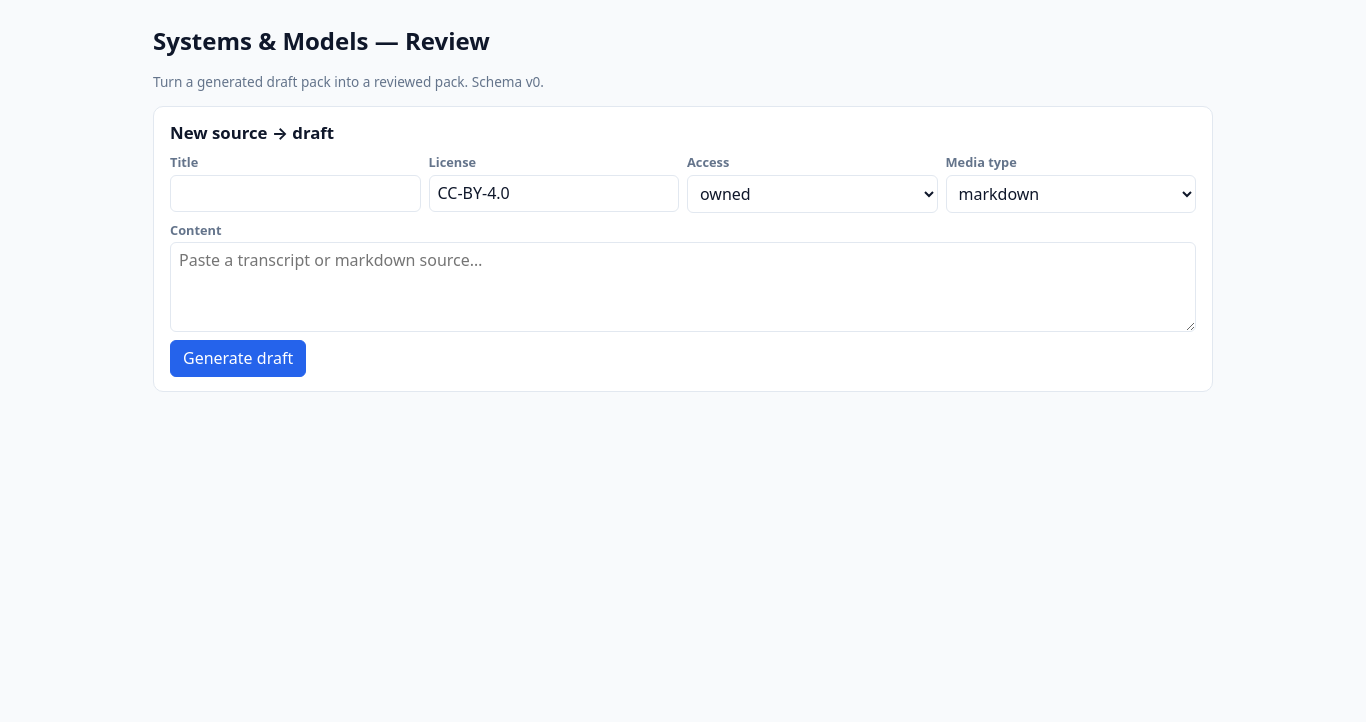
Test: validation panel + save gating › a mutation rejecting with an ApiError {validation} updates the ValidationPanel
In the field labelled "Title": [295, 194] box [170,175,420,212], type "Learning"
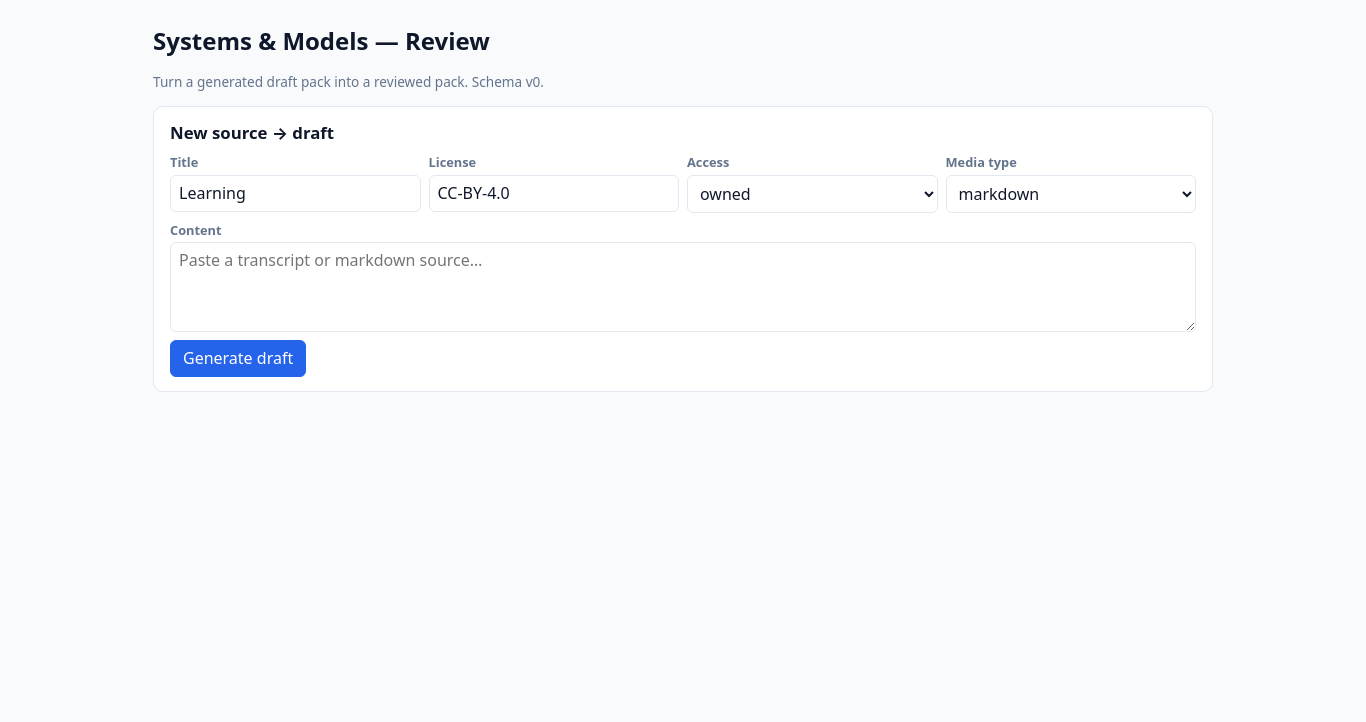
In the text box labelled "Content": [683, 287] box [170,242,1196,332], type "spacing improves retention. memory decays over time."
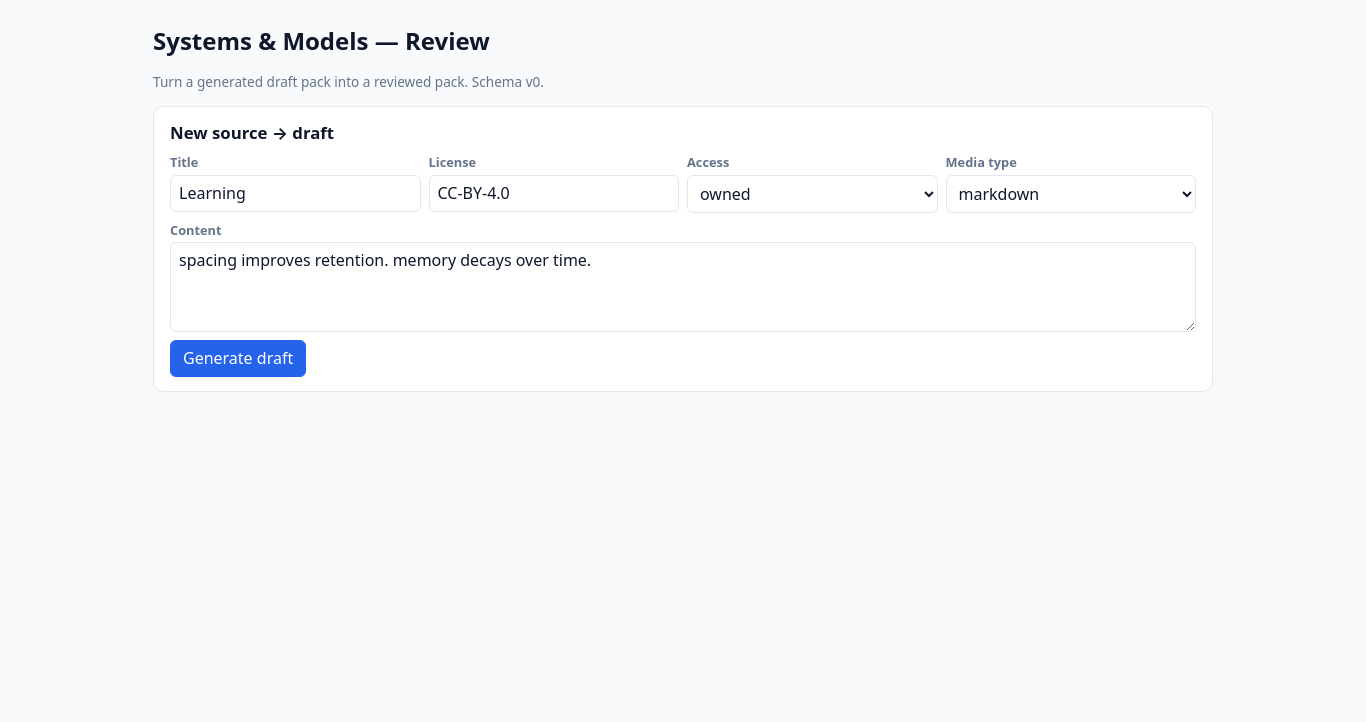
Click the button "Generate draft": [238, 359] box [170,340,306,377]
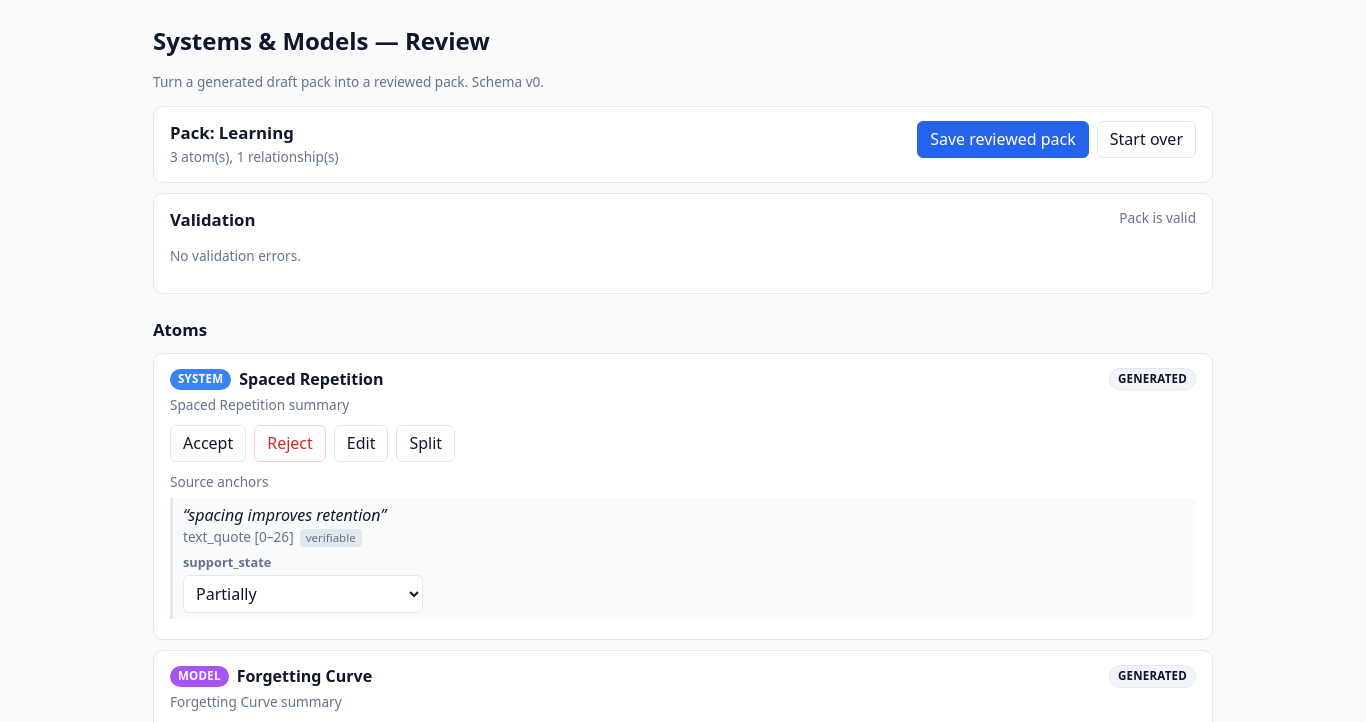
Expected: the heading "Pack: Learning" is shown, [170,121,294,144]
Click the button with aria-label "accept spaced repetition": [208, 443] box [170,425,246,462]
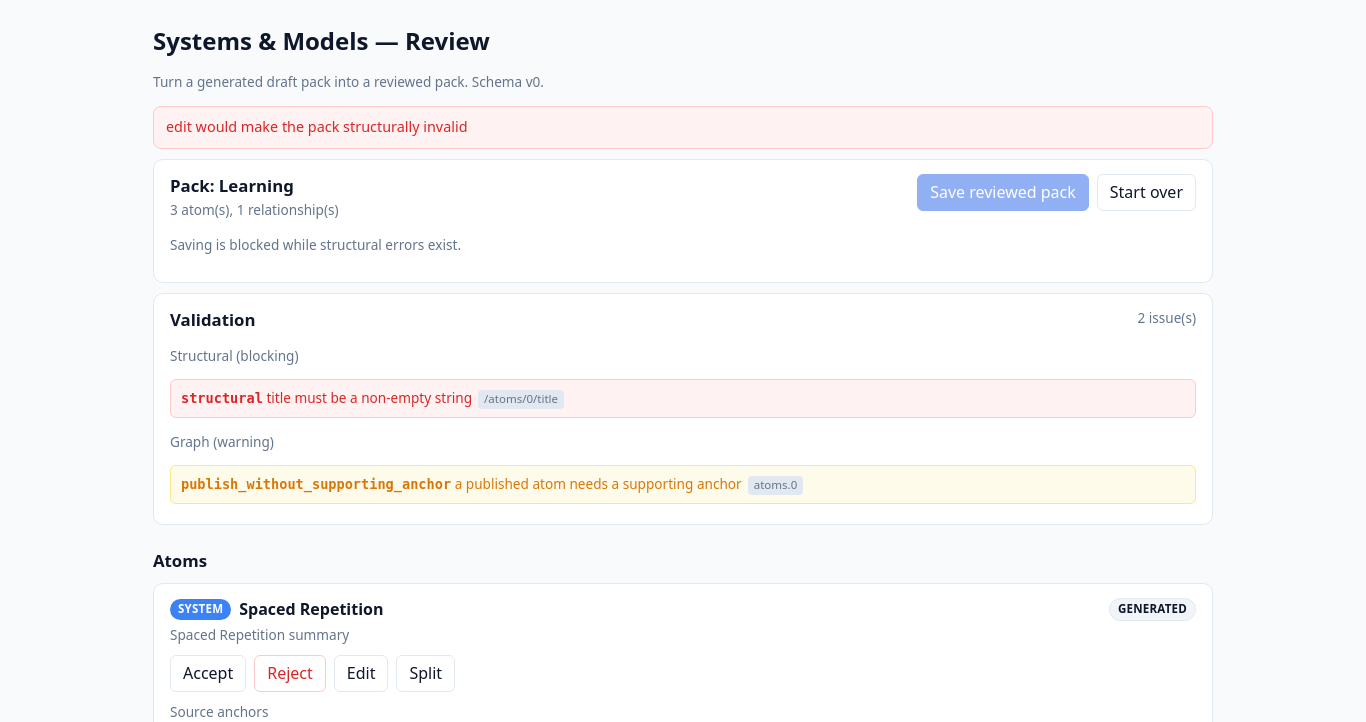
Expected: the text "edit would make the pack structurally invalid" is shown, [153,106,1213,149]
Expected: the list item "structural title must be a non-empty string /atoms/0/title" is shown, [170,379,1196,418]
